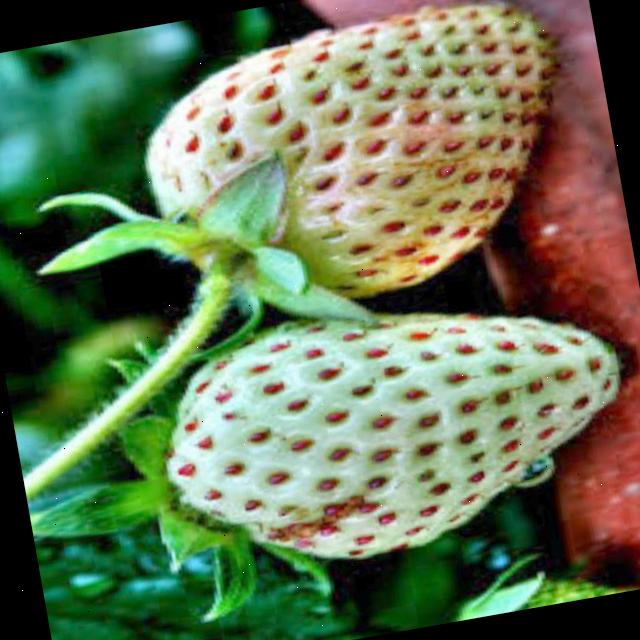strawberry: (148, 274, 640, 586), (130, 0, 582, 326)
